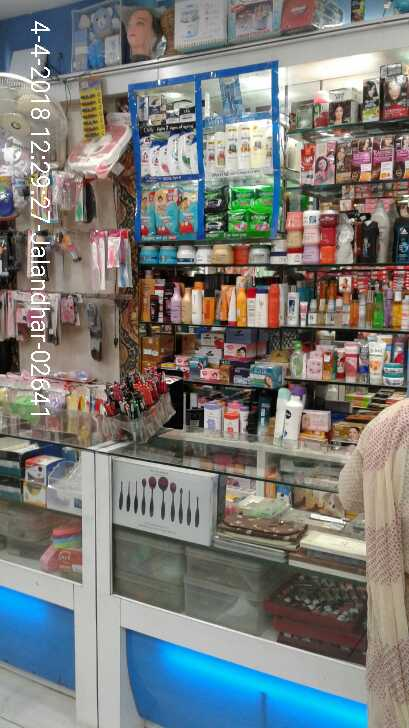venus: (219, 77, 240, 110)
